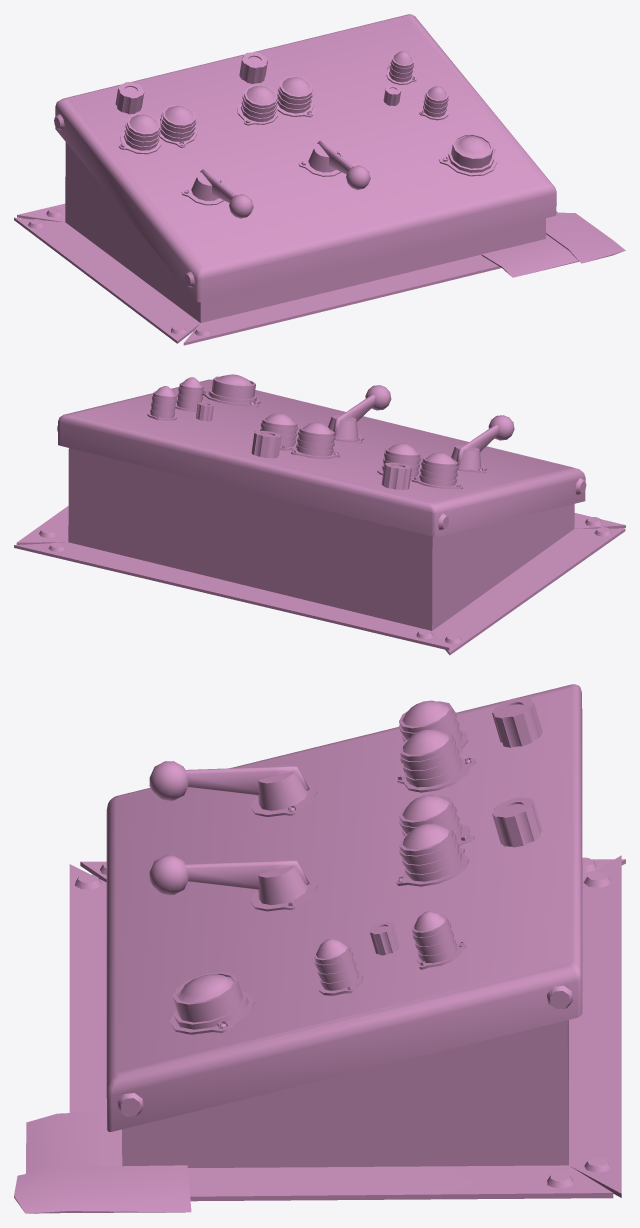
The model's file is panel_switches.fbx.
3 renders of one model, top to bottom at view 1: azimuth 30°, elevation 25°; view 2: azimuth 150°, elevation 25°; view 3: azimuth 270°, elevation 25°, orthographic. The views are drawn at different scales.
Parts seen in each view (by area): view 1: panel_switches; view 2: panel_switches; view 3: panel_switches.
Part boxes in pixels (x1=…): panel_switches: x1=14, y1=14, x2=625, y2=345; panel_switches: x1=14, y1=374, x2=625, y2=655; panel_switches: x1=14, y1=684, x2=625, y2=1213.
Size of the model in its own units: 0.6606 by 0.2052 by 0.491.
